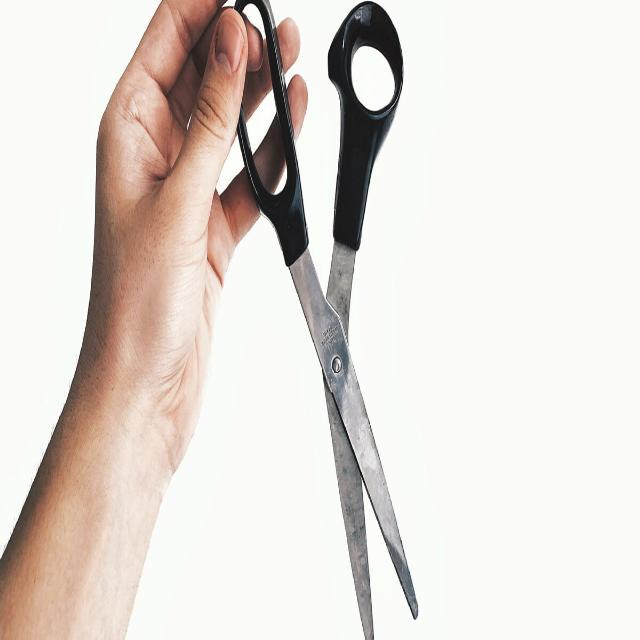tesoura: (226, 0, 418, 640)
